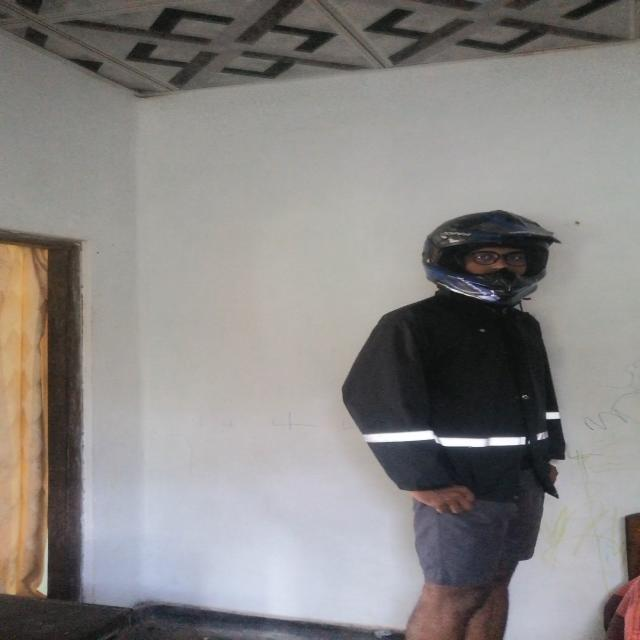Helmet_Wearer: (407, 209, 587, 313)
Jacket_Wearer: (328, 281, 585, 512)
